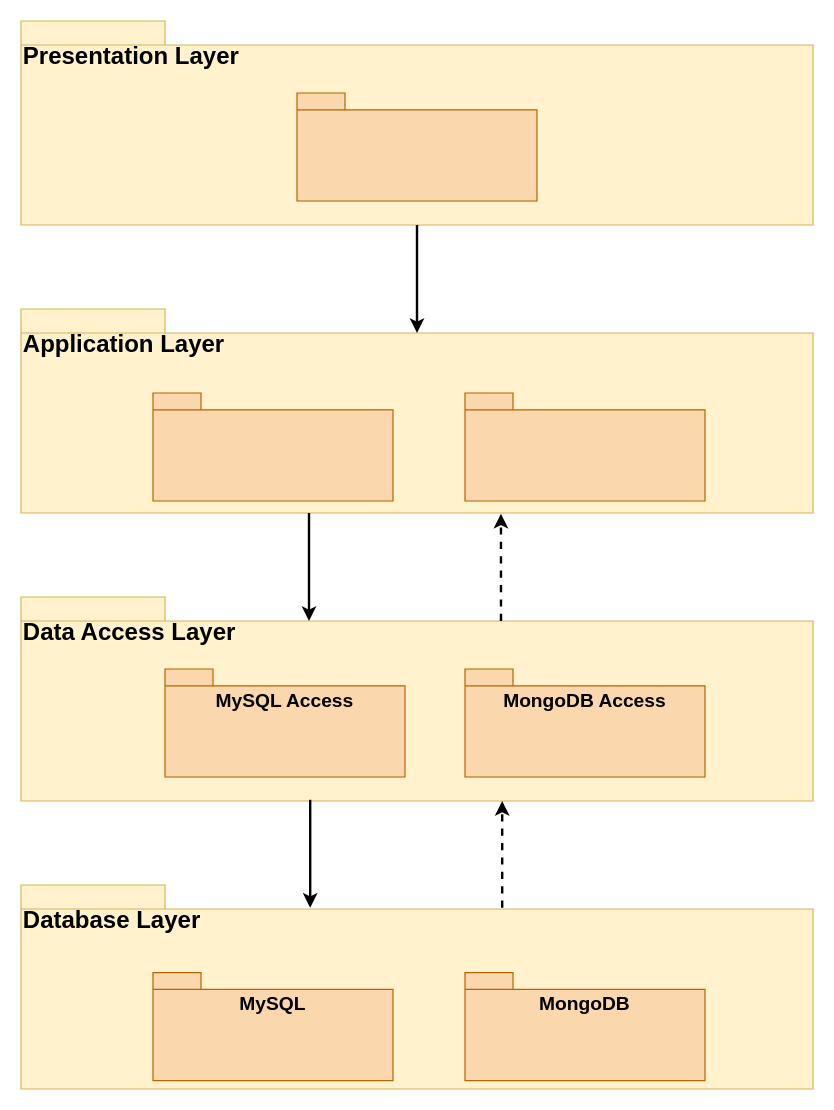
This 834x1110 diagram has some shape labels left out. Here are the shapes that lost their labels. From the top down, the centre of each, then its label:
At [416,146]: "Frontend (Next.js)".
At [272,446]: "Backend (Node.js)".
At [584,446]: "Backend (FastAPI)".
